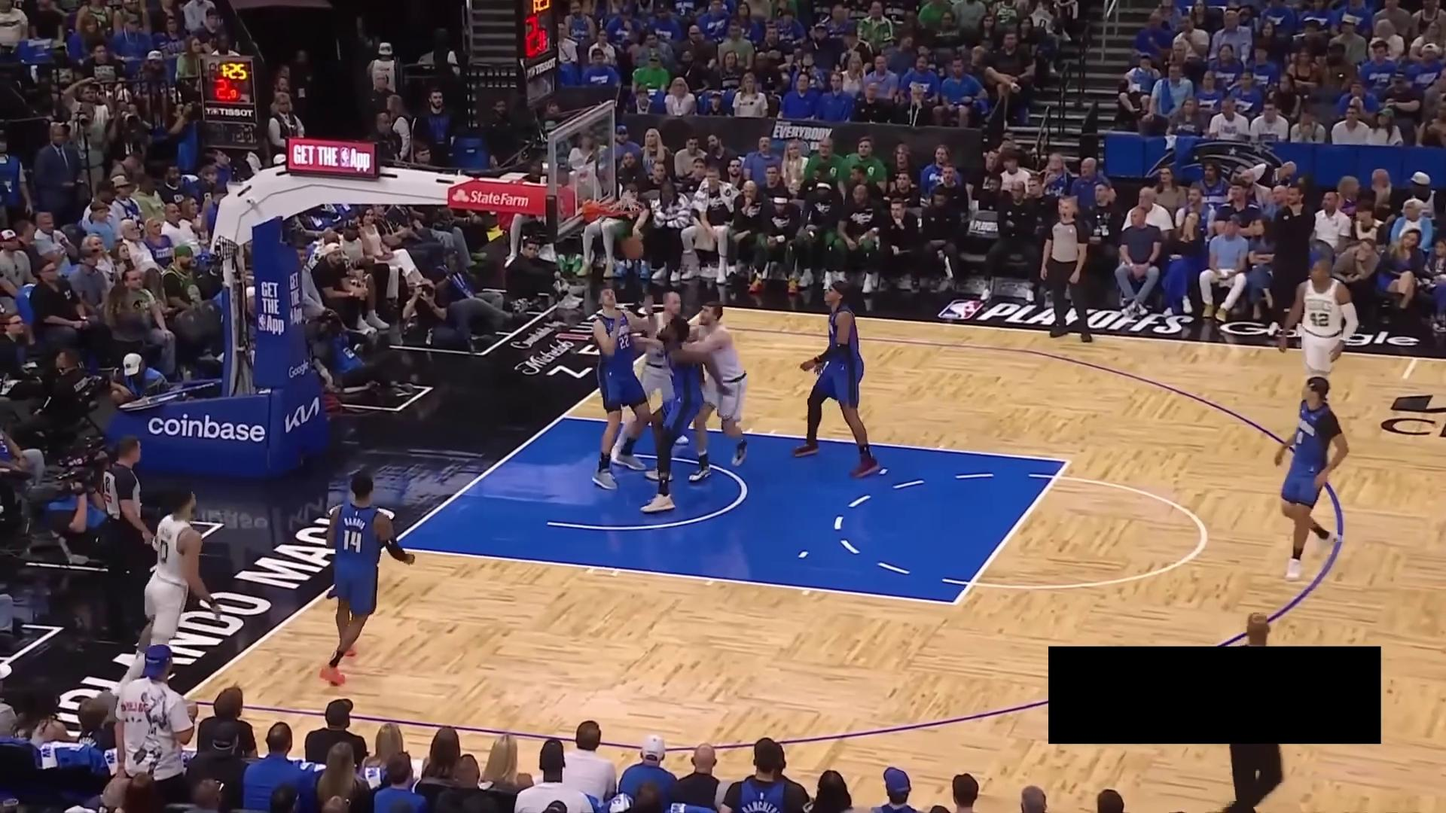ball: (621, 237, 645, 260)
number: (342, 527, 363, 555), (155, 536, 171, 562), (1309, 312, 1331, 327), (618, 334, 631, 350), (1295, 430, 1304, 445)
player: (113, 484, 223, 691), (318, 475, 417, 687), (640, 315, 735, 514), (793, 280, 882, 482), (1268, 374, 1348, 580), (610, 290, 690, 465), (591, 285, 659, 490), (682, 299, 748, 484), (1278, 252, 1362, 388)
referee: (1212, 605, 1284, 813), (103, 429, 159, 638), (1033, 186, 1097, 344)
rim: (599, 197, 648, 218)
